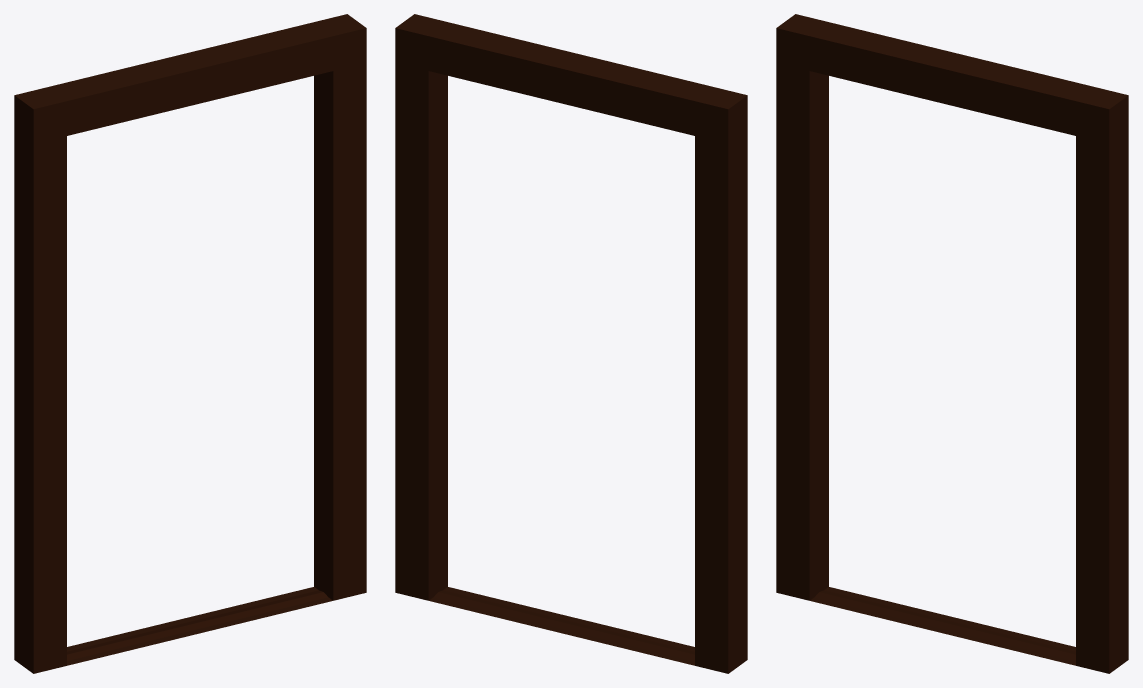
The model's file is door_border.obj.
3 views of the same model, side by side, from view 1: azimuth 30°, elevation 25°; view 2: azimuth 150°, elevation 25°; view 3: azimuth 330°, elevation 25° (orthographic).
Bounding box in the file's own units: 2 × 3.24 × 0.2.
